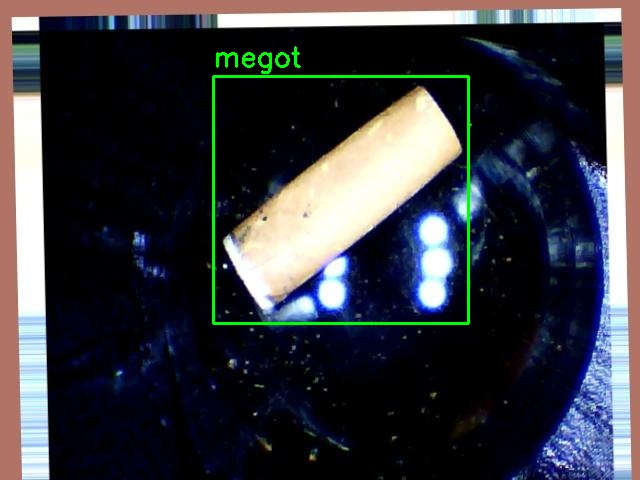megot: (213, 76, 468, 323)
